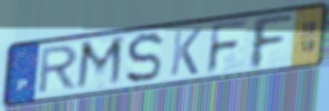F: (204, 17, 252, 77), (250, 13, 296, 72)
K: (168, 26, 204, 78)
M: (73, 34, 127, 93)
R: (34, 43, 82, 97)
S: (124, 31, 165, 86)
